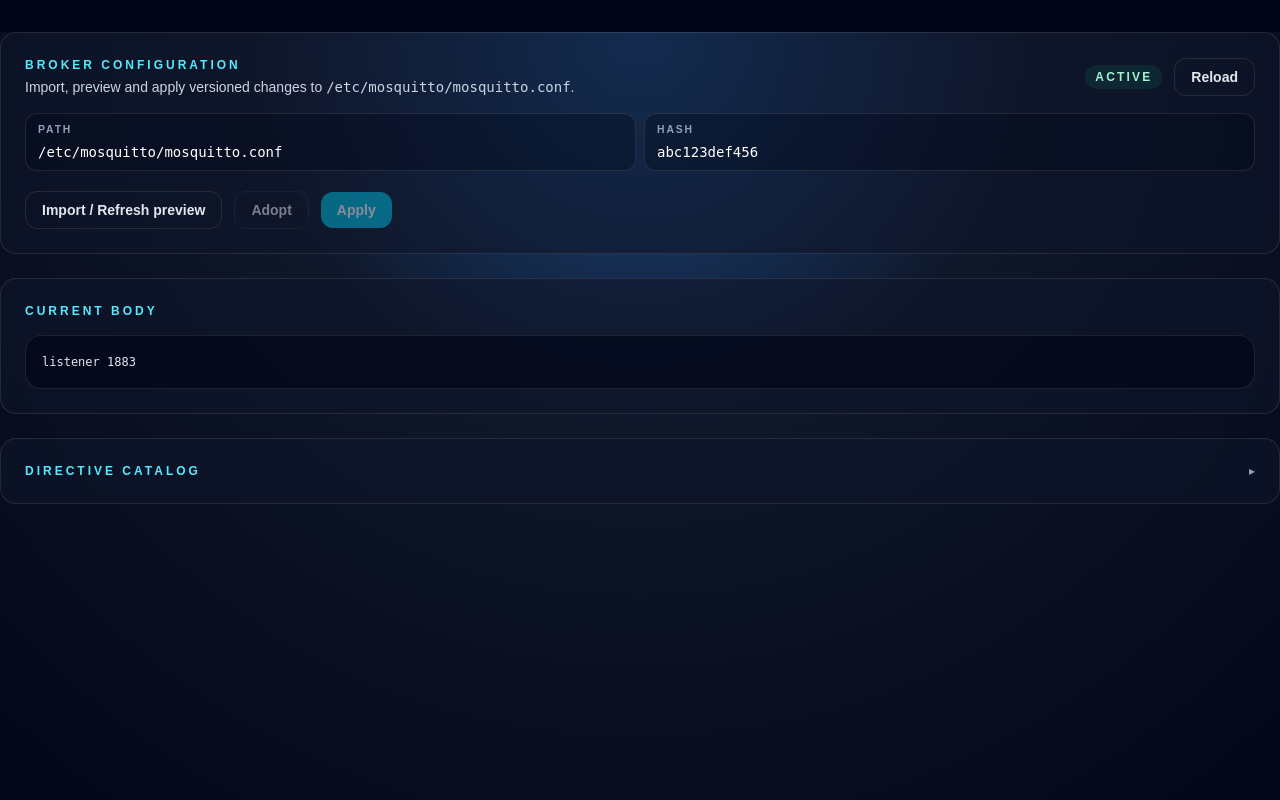
Test case: BrokerConfigPanel › surfaces 409 requires_restart errors as an inline error banner
The image size is (1280, 800).
Expected: the text "/etc/mosquitto/mosquitto.conf" below "Broker configuration" is shown, [326,79,571,95]
Click the button "Import / Refresh preview": x=124, y=210 [25,191,222,229]
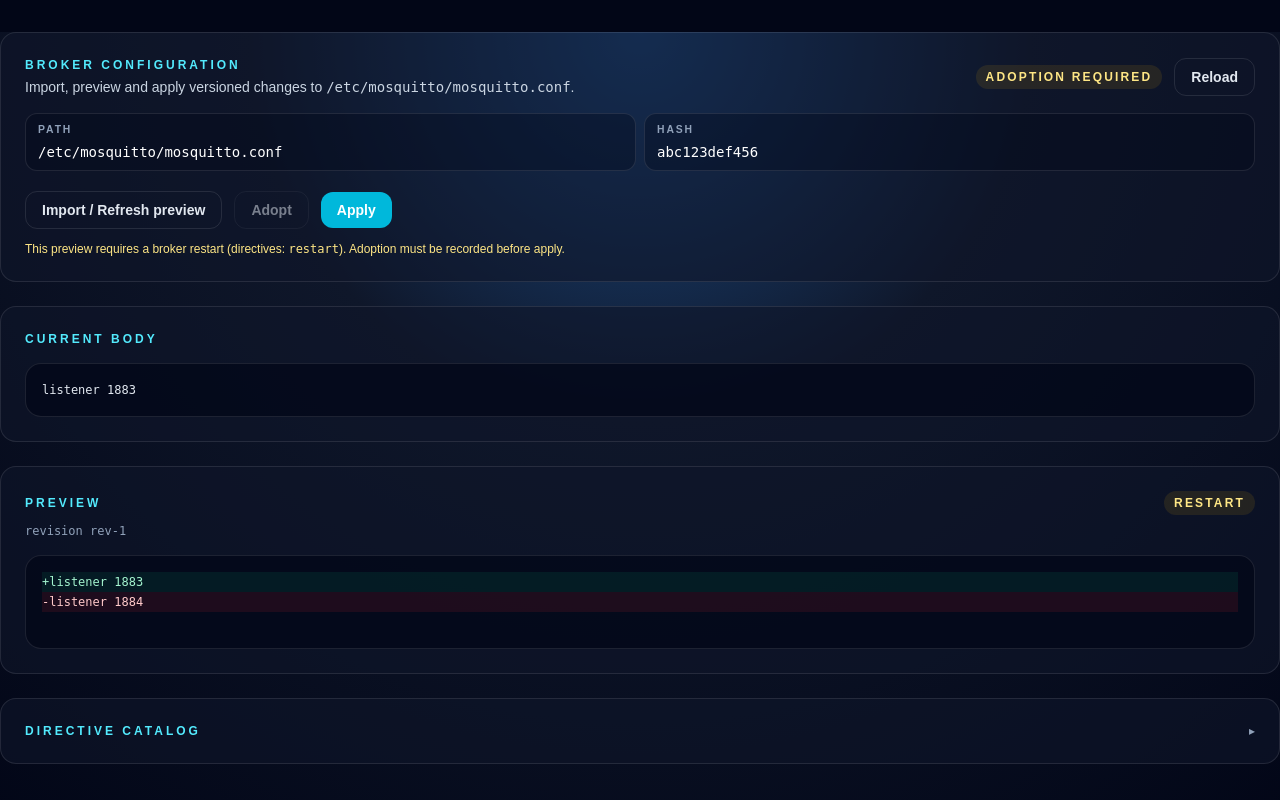
Now the text "Preview" is shown, box [25,495,101,511]
Click the button "Apply": x=356, y=210 [321,192,392,228]
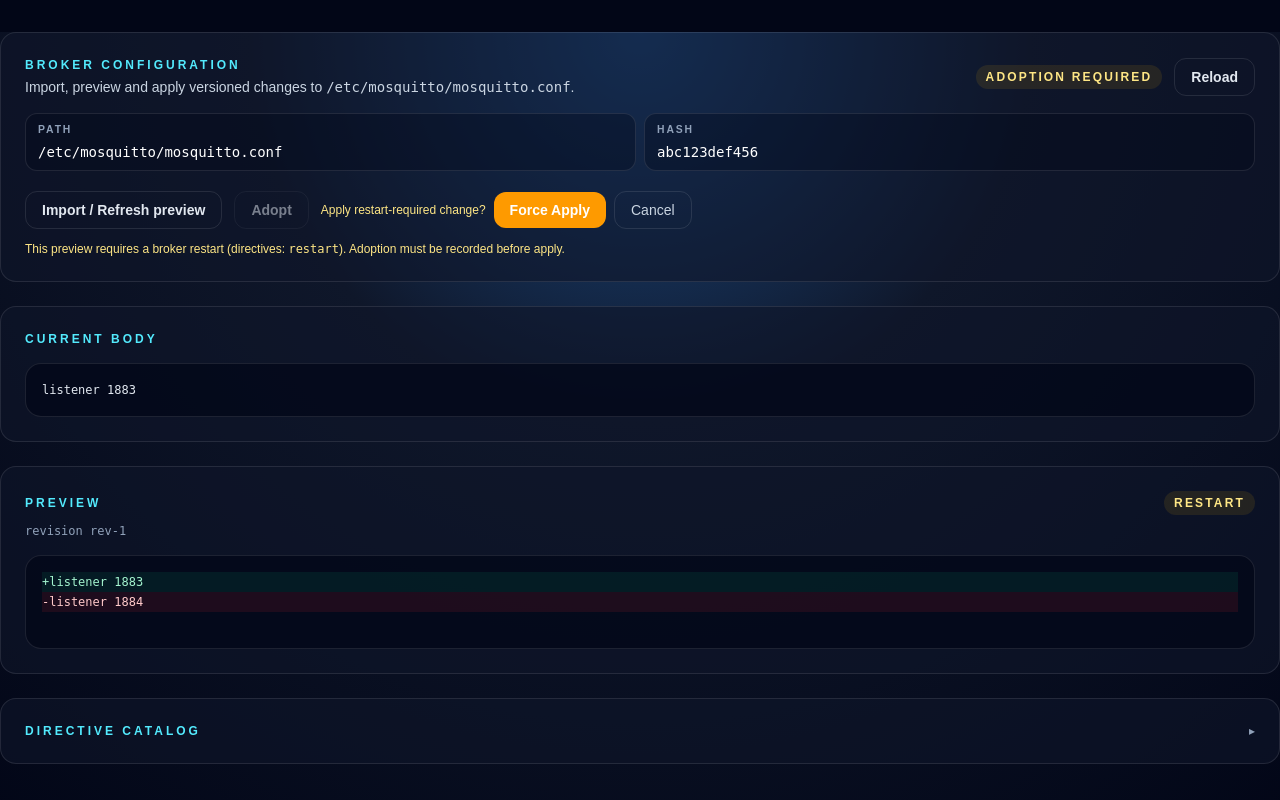
Click the button "Force Apply": x=550, y=210 [494,192,606,228]
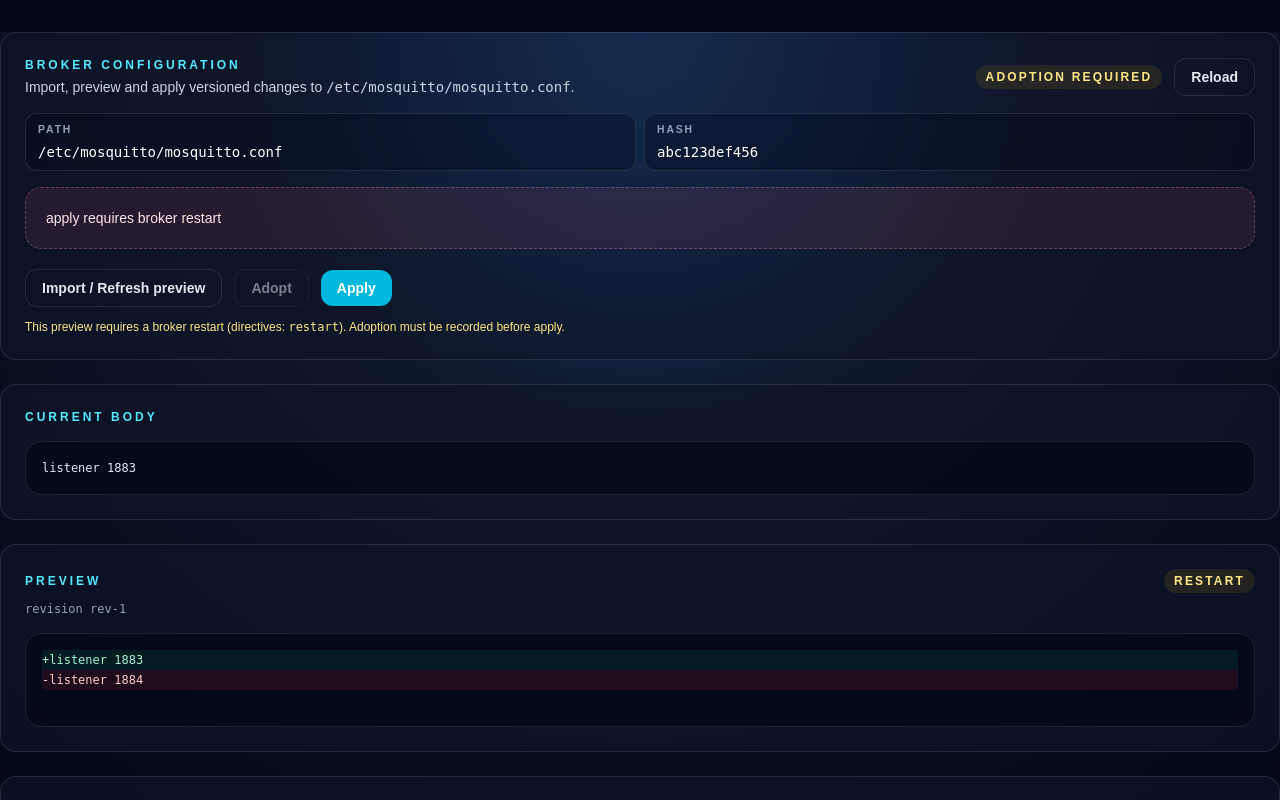
Now the message reads "apply requires broker restart", box [46,210,221,226]
